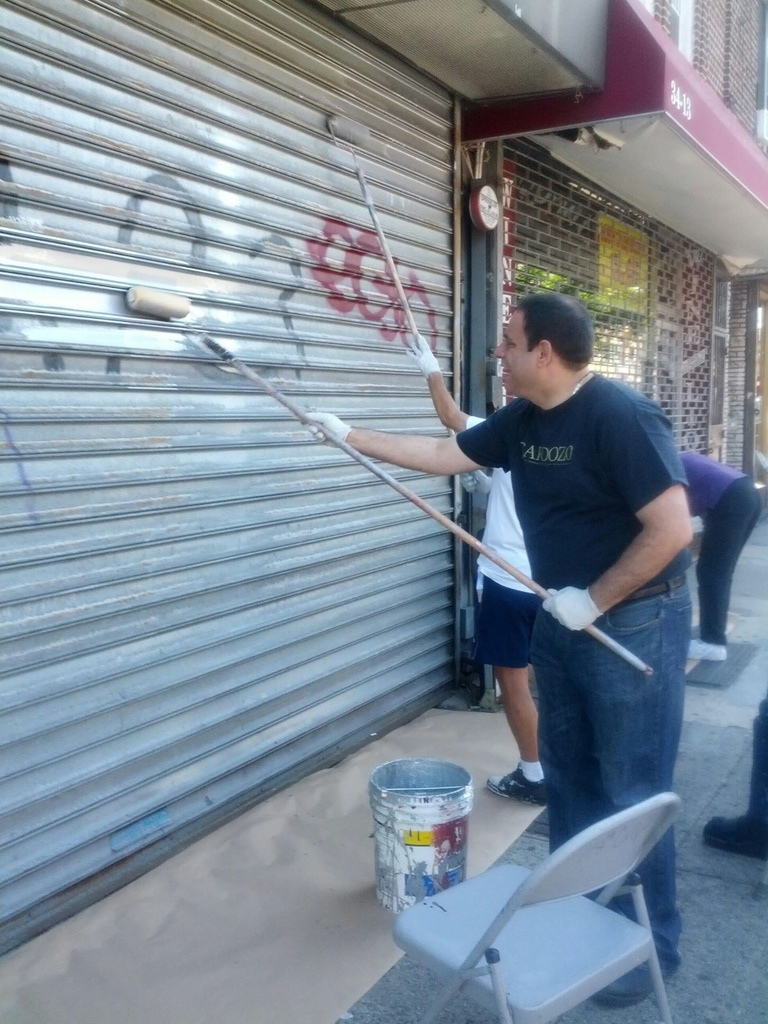Human_hand: (542, 587, 601, 631), (306, 412, 352, 447), (407, 334, 438, 377)
